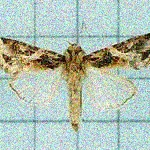Spodoptera litura: (1, 21, 150, 133)
